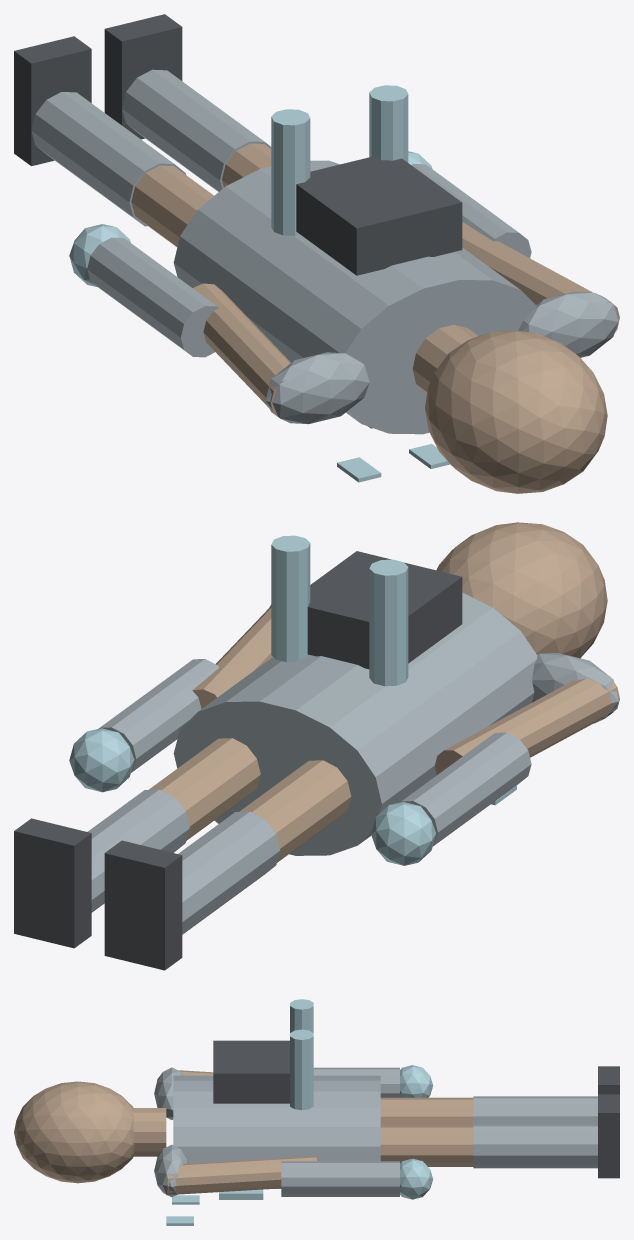
Rendered from SWN-001_mira_vale.glb.
The picture shows the model from 3 angles, top to bottom: view 1: azimuth 30°, elevation 25°; view 2: azimuth 150°, elevation 25°; view 3: azimuth 270°, elevation 25°; orthographic projection. The views are drawn at different scales.
Parts seen in each view (by area): view 1: body_spine, head, back_thruster_pack, greave_-1, greave_1, forearm_gauntlet_-1, boot_-1, shoulder_plate_-1, boot_1, upper_arm_-1, shoulder_plate_1, aether_thruster_-1 (+8 smaller); view 2: body_spine, head, back_thruster_pack, boot_-1, boot_1, greave_-1, forearm_gauntlet_-1, upper_arm_-1, thigh_1, thigh_-1, forearm_gauntlet_1, greave_1 (+6 smaller); view 3: body_spine, head, greave_1, back_thruster_pack, forearm_gauntlet_1, thigh_1, greave_-1, upper_arm_1, thigh_-1, aether_thruster_1, boot_1, neck (+8 smaller).
Part boxes in pixels (box(x1,y1,x2,y2)): body_spine: box(173, 160, 537, 434); head: box(425, 330, 607, 493); back_thruster_pack: box(296, 156, 462, 275); greave_-1: box(31, 92, 185, 226); greave_1: box(122, 69, 271, 191); forearm_gauntlet_-1: box(87, 237, 218, 357); boot_-1: box(14, 36, 91, 166); shoulder_plate_-1: box(265, 352, 369, 424); boot_1: box(104, 14, 182, 139); upper_arm_-1: box(193, 283, 290, 419); shoulder_plate_1: box(518, 291, 618, 357); aether_thruster_-1: box(271, 109, 310, 235); body_spine: box(173, 592, 537, 855); head: box(436, 522, 607, 658); back_thruster_pack: box(307, 551, 462, 669); boot_-1: box(104, 840, 182, 970); boot_1: box(14, 818, 91, 948); greave_-1: box(178, 811, 280, 934); forearm_gauntlet_-1: box(400, 732, 531, 846); upper_arm_-1: box(435, 674, 619, 774); thigh_1: box(148, 738, 260, 840); thigh_-1: box(239, 760, 351, 862); forearm_gauntlet_1: box(98, 659, 219, 772); greave_1: box(87, 789, 189, 912); body_spine: box(173, 1075, 380, 1188); head: box(14, 1081, 134, 1183); greave_1: box(473, 1124, 597, 1168); back_thruster_pack: box(213, 1040, 289, 1103); forearm_gauntlet_1: box(281, 1161, 399, 1196); thigh_1: box(380, 1125, 473, 1166); greave_-1: box(473, 1096, 597, 1124); upper_arm_1: box(166, 1156, 316, 1195); thigh_-1: box(380, 1097, 473, 1125); aether_thruster_1: box(290, 1029, 313, 1110); boot_1: box(598, 1094, 619, 1178); neck: box(132, 1108, 166, 1156).
Bounding box in the file's own units: 0.95 × 0.725 × 2.19.
